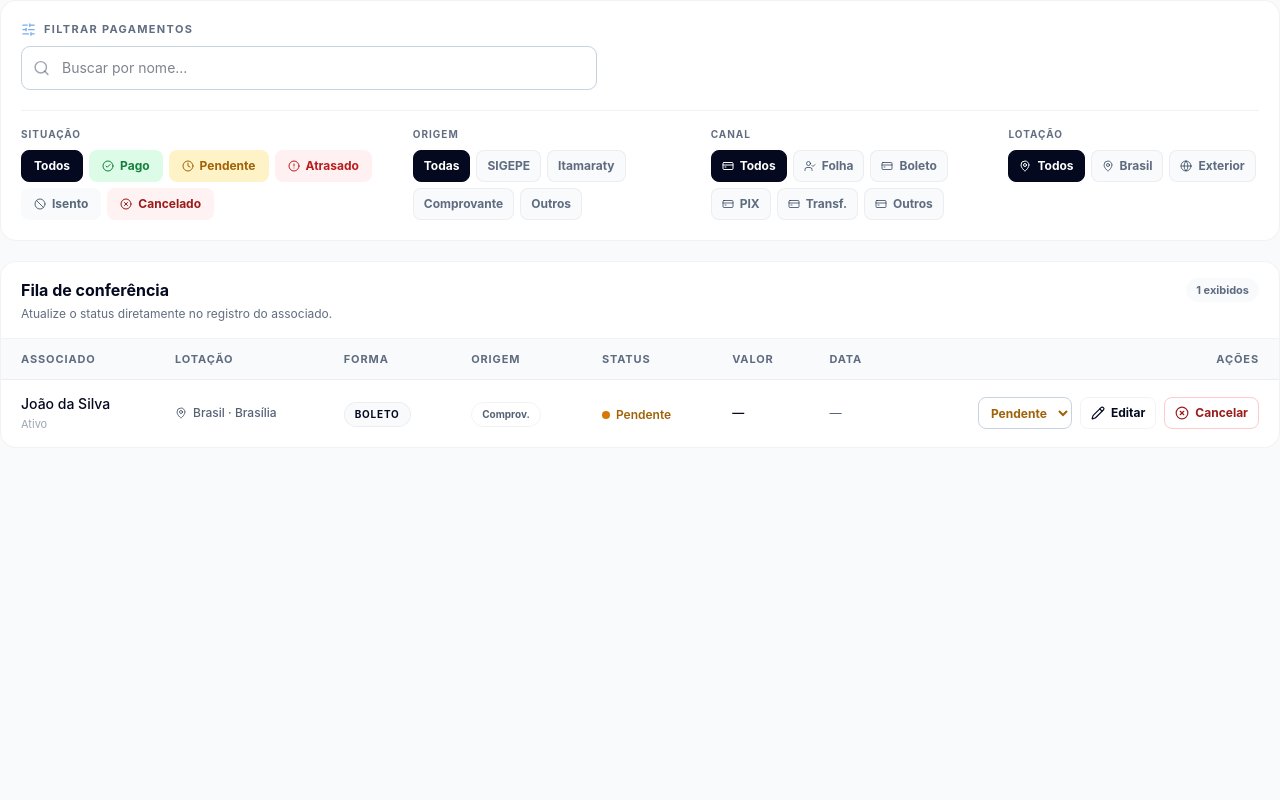
Test: MonthlyPaymentsTable › opens the audited cancellation dialog and submits the reason
This screenshot has width=1280, height=800.
Click the button with aria-label "Cancelar mensalidade de João da Silva" at (1212, 413), box 1164,397 -> 1259,429
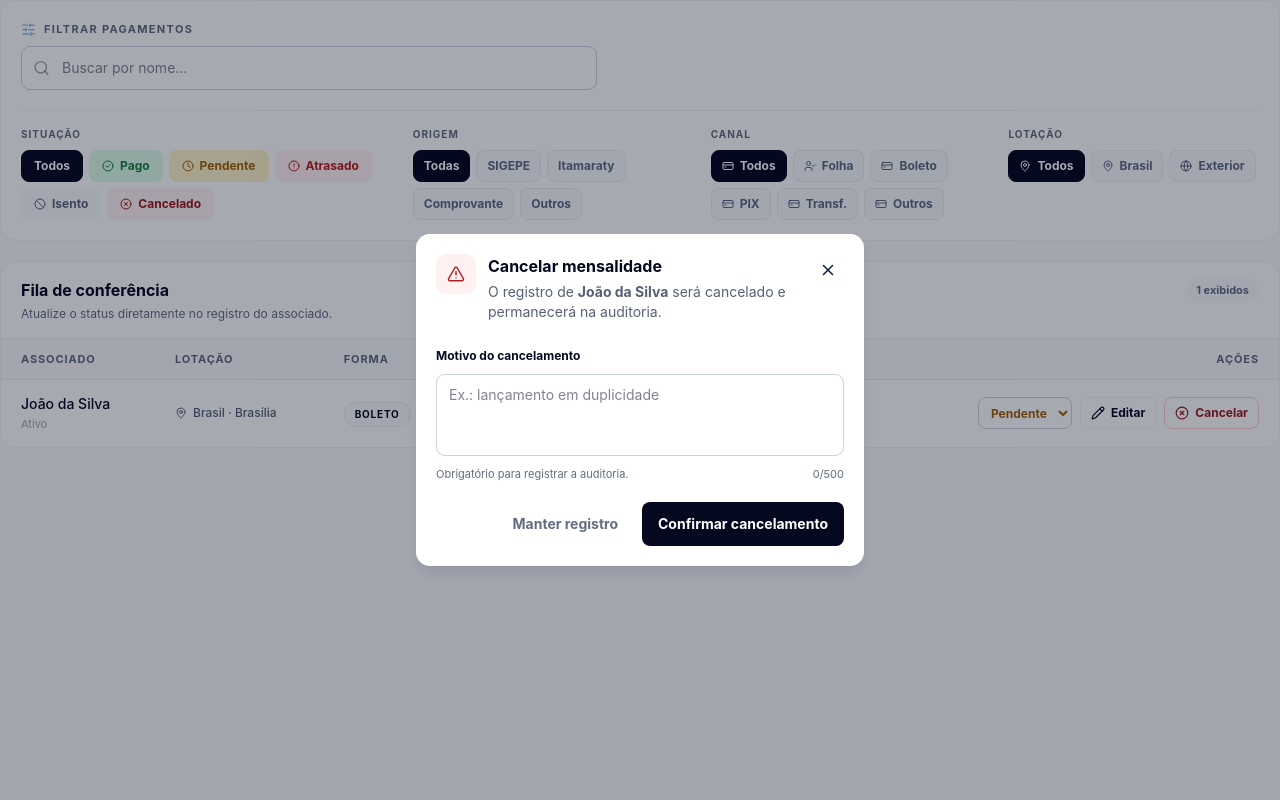
Expected: the dialog "Cancelar mensalidade" is shown, 416,234 -> 864,566
Type "Duplicidade" into the text box labelled "Motivo do cancelamento" at (640, 415), box 436,374 -> 844,456
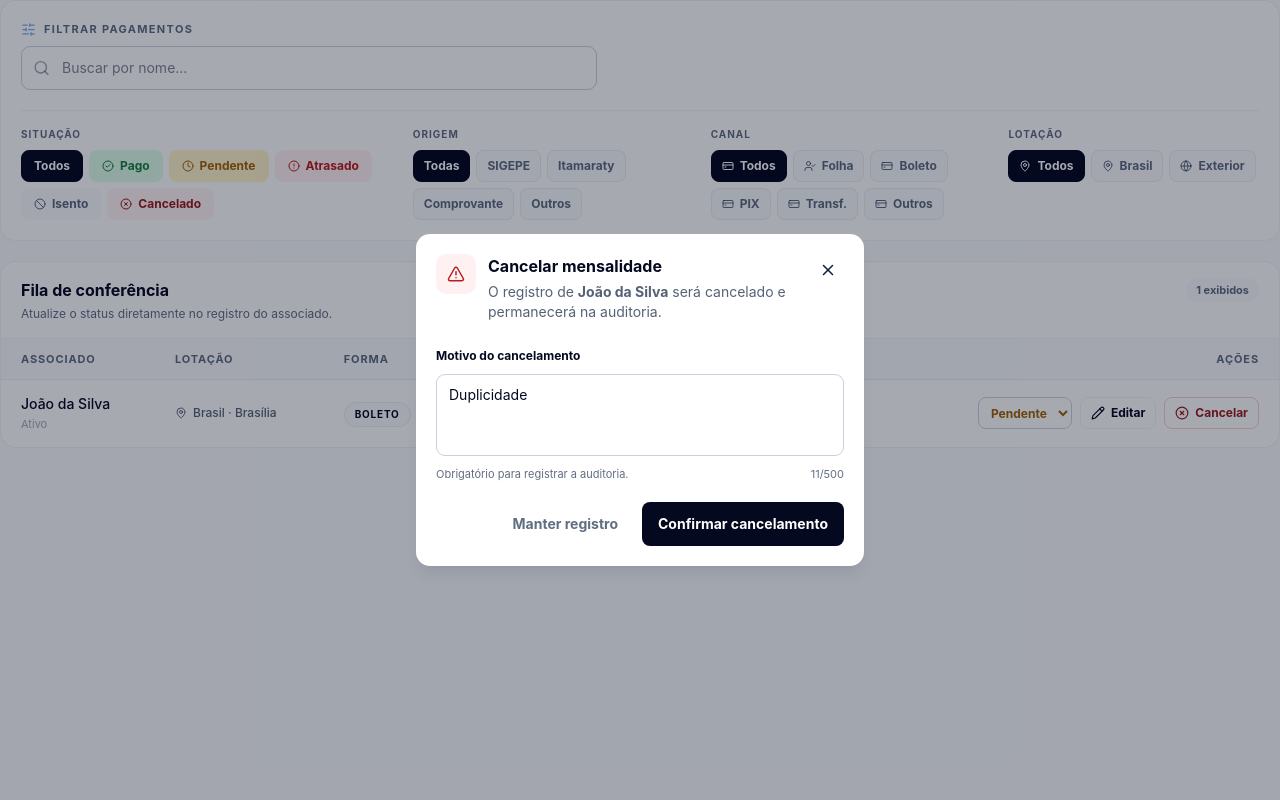
Click the button "Confirmar cancelamento" at (743, 524), box 642,502 -> 844,546
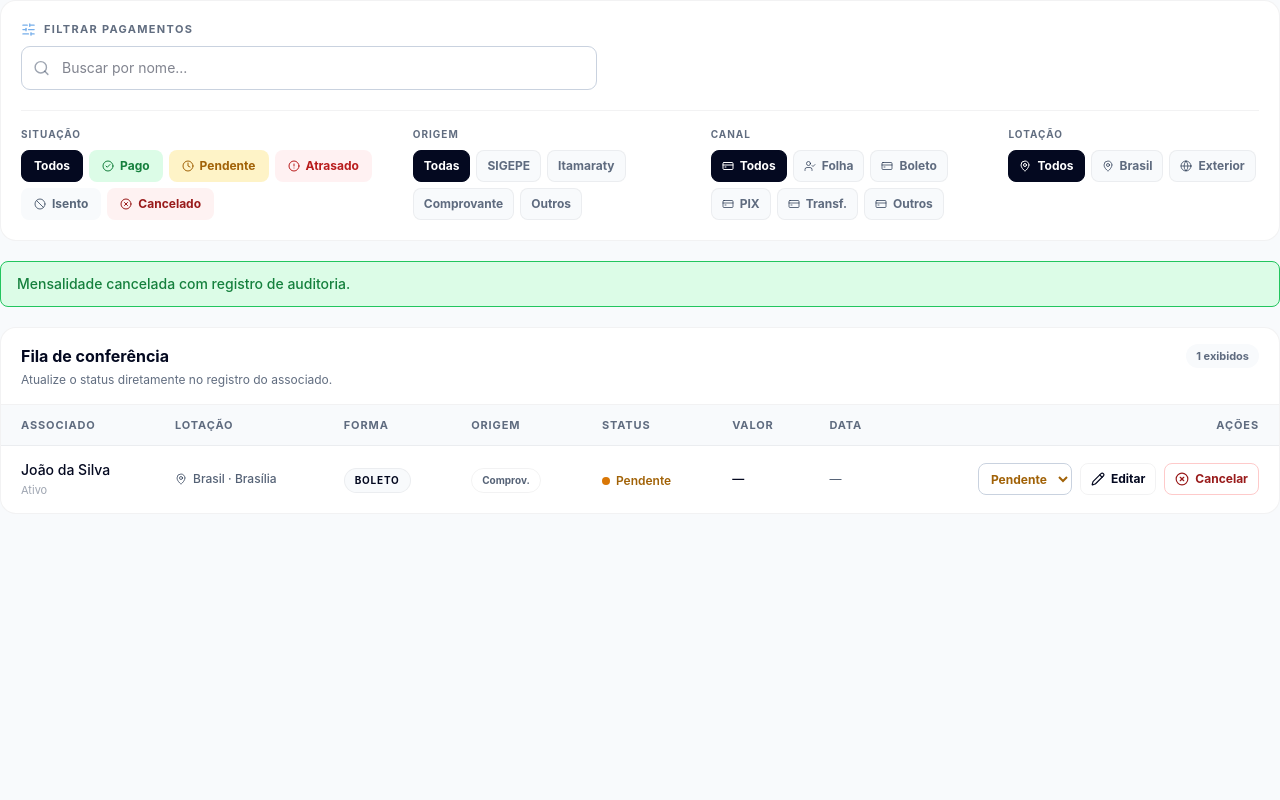
Expected: the dialog is gone
